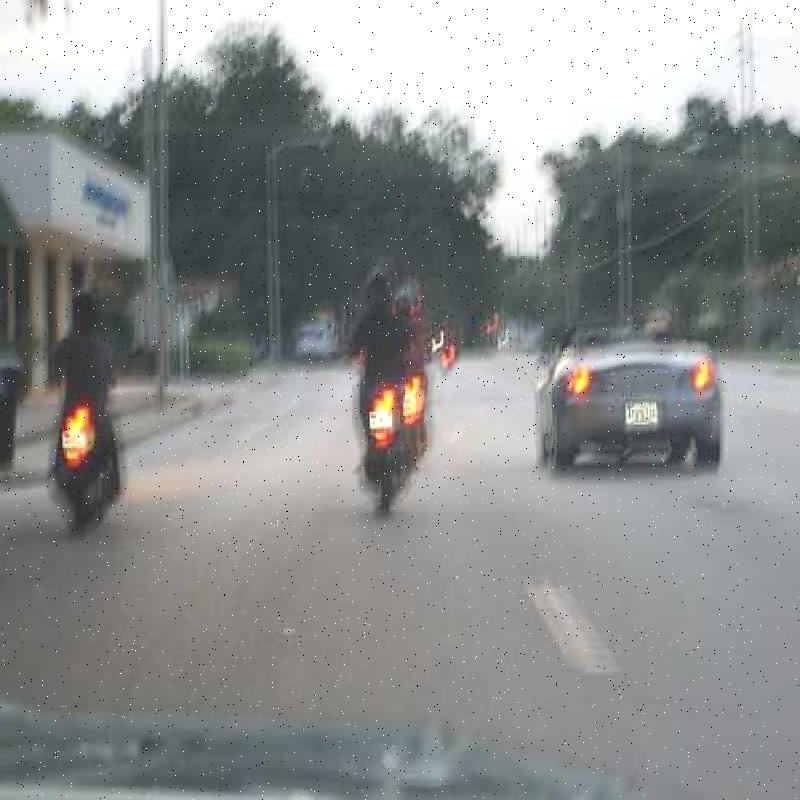bike: (359, 380, 405, 503)
